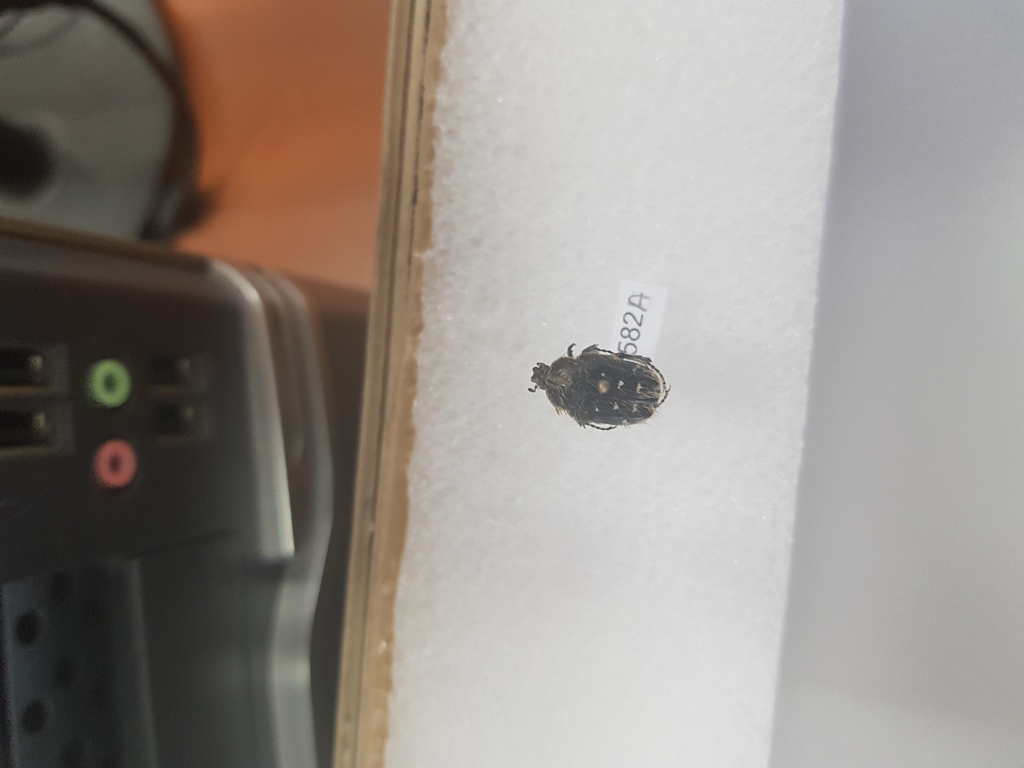Tropinota_hirta: (522, 336, 680, 444)
